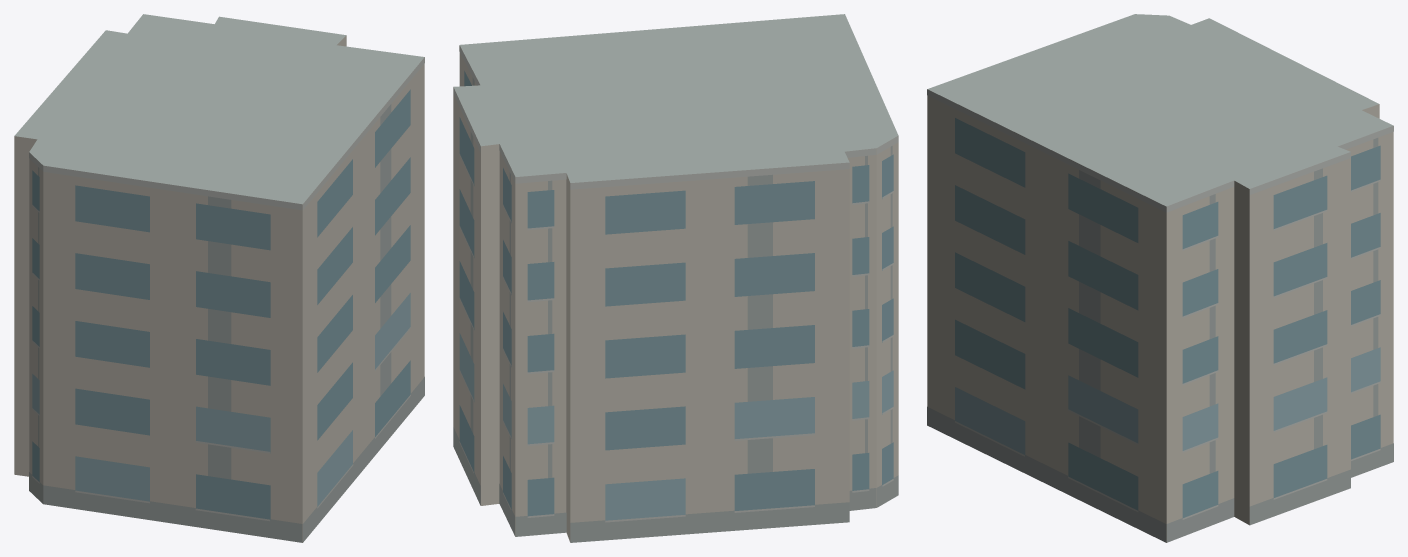
Rendered from survey-upis-32814701.glb.
3 views of the same model, side by side, from view 1: azimuth 30°, elevation 25°; view 2: azimuth 150°, elevation 25°; view 3: azimuth 270°, elevation 25° (orthographic). The views are drawn at different scales.
Parts seen in each view (by area): view 1: survey-upis-32814701.tmp; view 2: survey-upis-32814701.tmp; view 3: survey-upis-32814701.tmp.
Part boxes in pixels (x1,y1,x2,y2): survey-upis-32814701.tmp: (14,14,424,542); survey-upis-32814701.tmp: (453,14,898,542); survey-upis-32814701.tmp: (927,14,1393,542).
Size of the model in its own units: 16.28 by 13.25 by 16.66.
